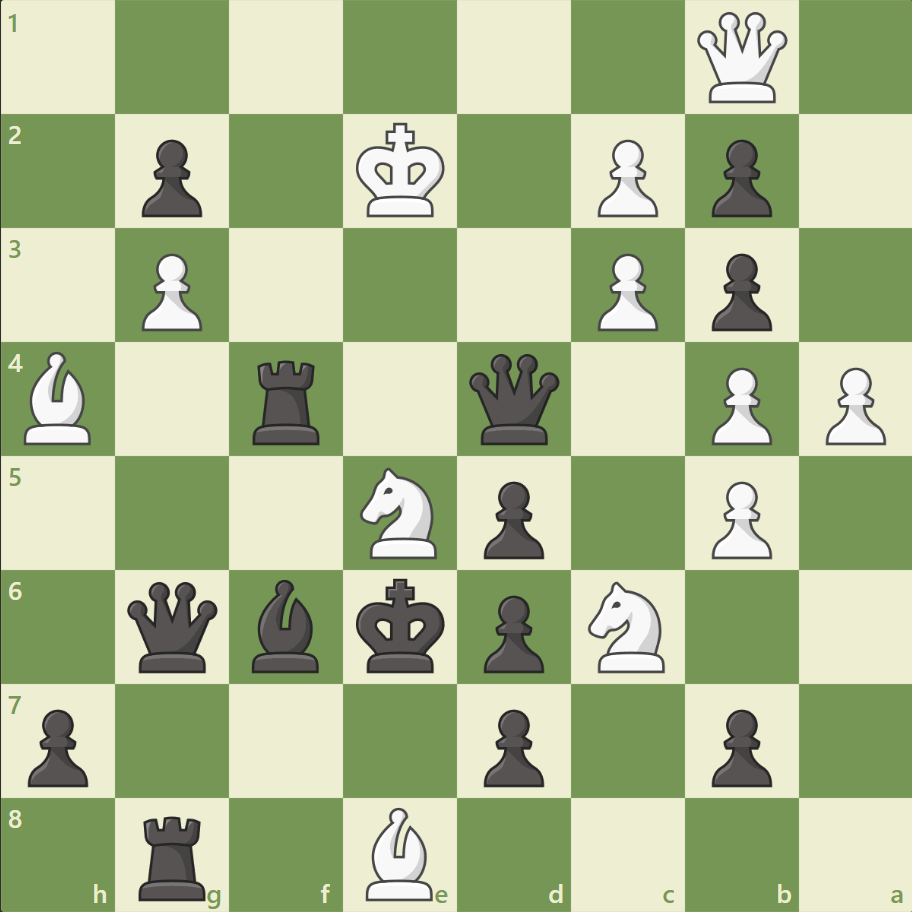B: (358, 801, 442, 904), (17, 347, 101, 449)
K: (351, 117, 451, 225)
N: (351, 461, 449, 564), (579, 575, 676, 677)
P: (701, 473, 776, 564), (701, 359, 776, 450), (133, 246, 208, 337), (815, 359, 889, 450), (588, 246, 662, 337), (588, 132, 662, 223)
Q: (691, 9, 790, 108)
b: (244, 574, 328, 676)
k: (351, 571, 451, 679)
p: (701, 700, 776, 791), (474, 700, 549, 791), (20, 700, 95, 791), (474, 586, 549, 677), (474, 473, 549, 564), (701, 246, 776, 337), (701, 132, 776, 223), (133, 132, 208, 223)
q: (124, 576, 223, 676), (464, 349, 563, 449)
r: (246, 352, 329, 449), (133, 806, 215, 904)
